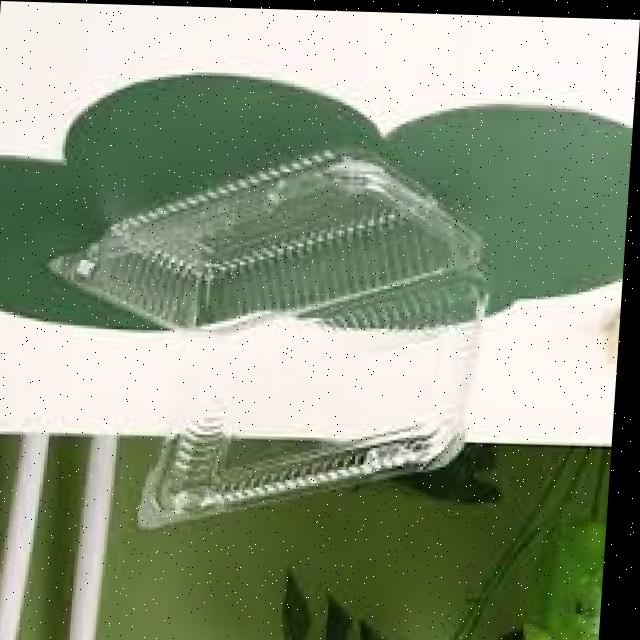disposable: (21, 120, 506, 359)
